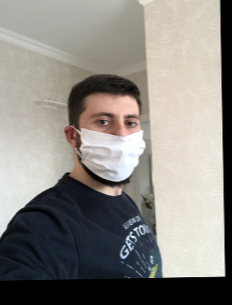with_mask: (79, 102, 146, 189)
